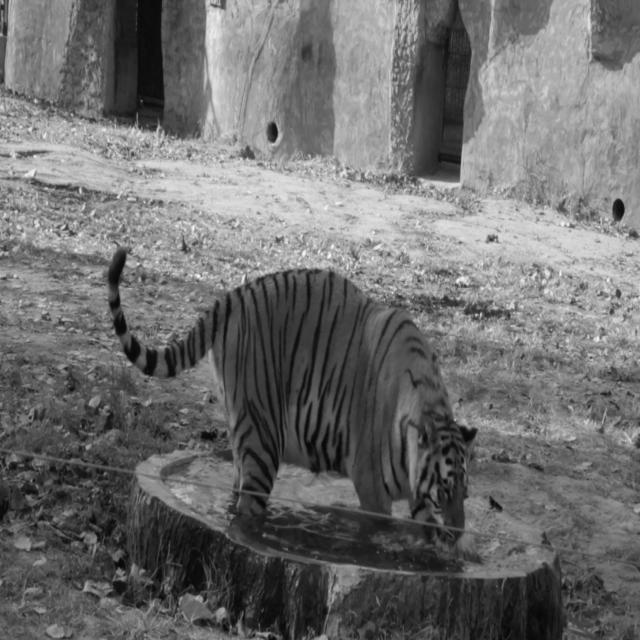Tiger: (106, 246, 478, 553)
